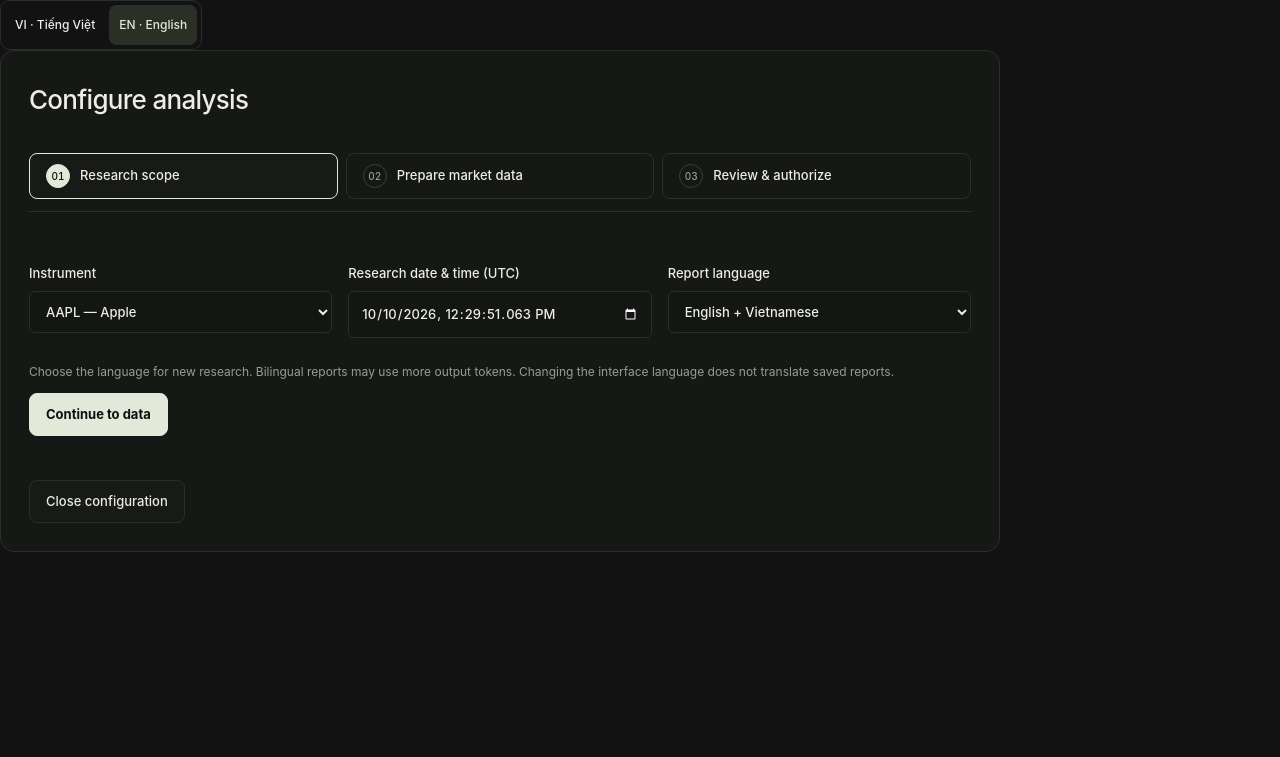
Scenario: discloses failed economic coverage in Vietnamese and never selects it or starts AI
Click the button "02 Prepare market data" at (500, 176), box [346,153,654,199]
(page scrolled)
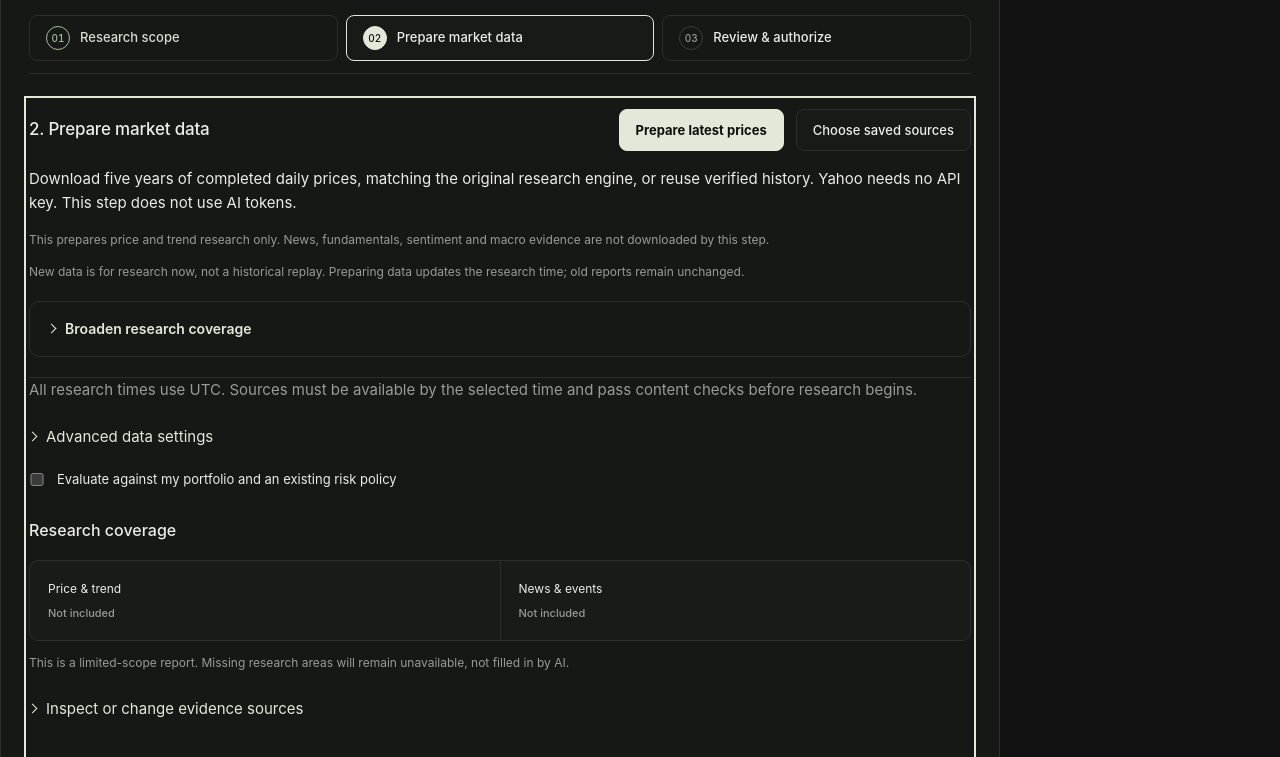
Click the heading "Broaden research coverage" at (158, 328), box [65,320,252,337]
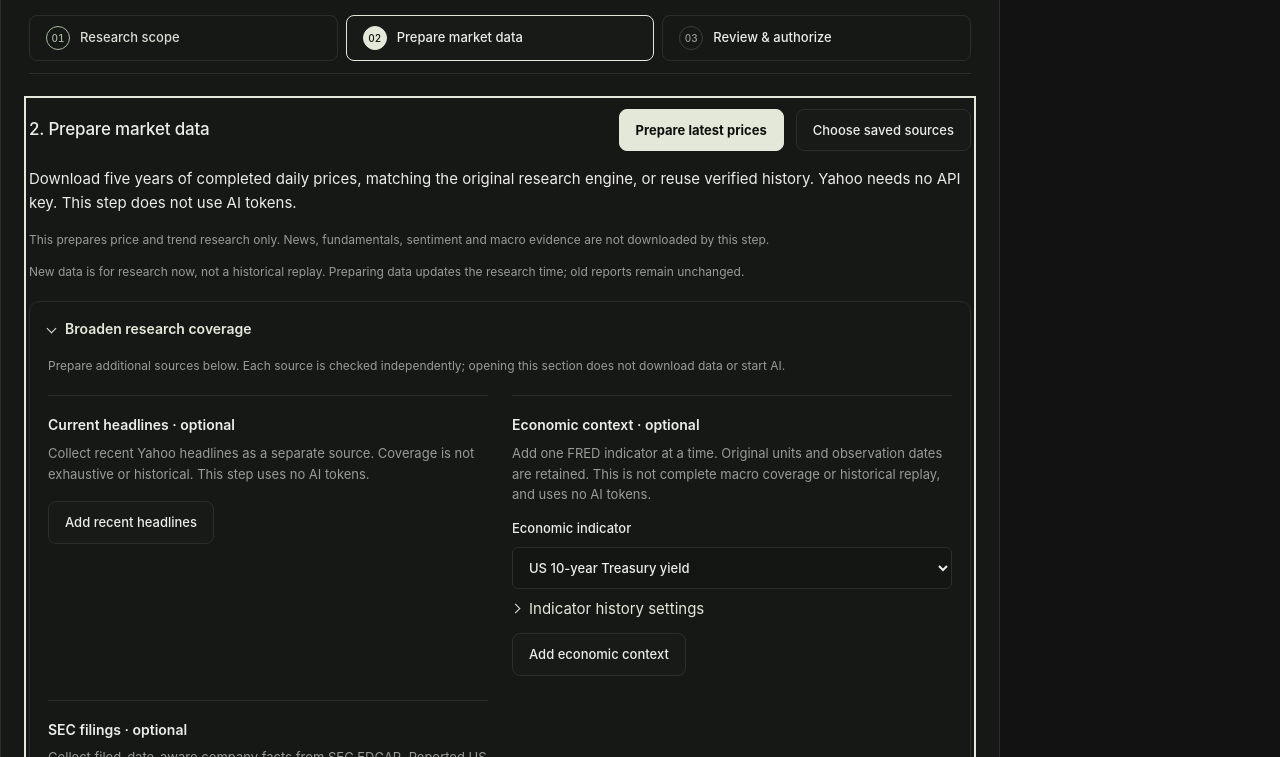
Click the button "Add economic context" at (599, 654), box [512,633,686,676]
(page scrolled)
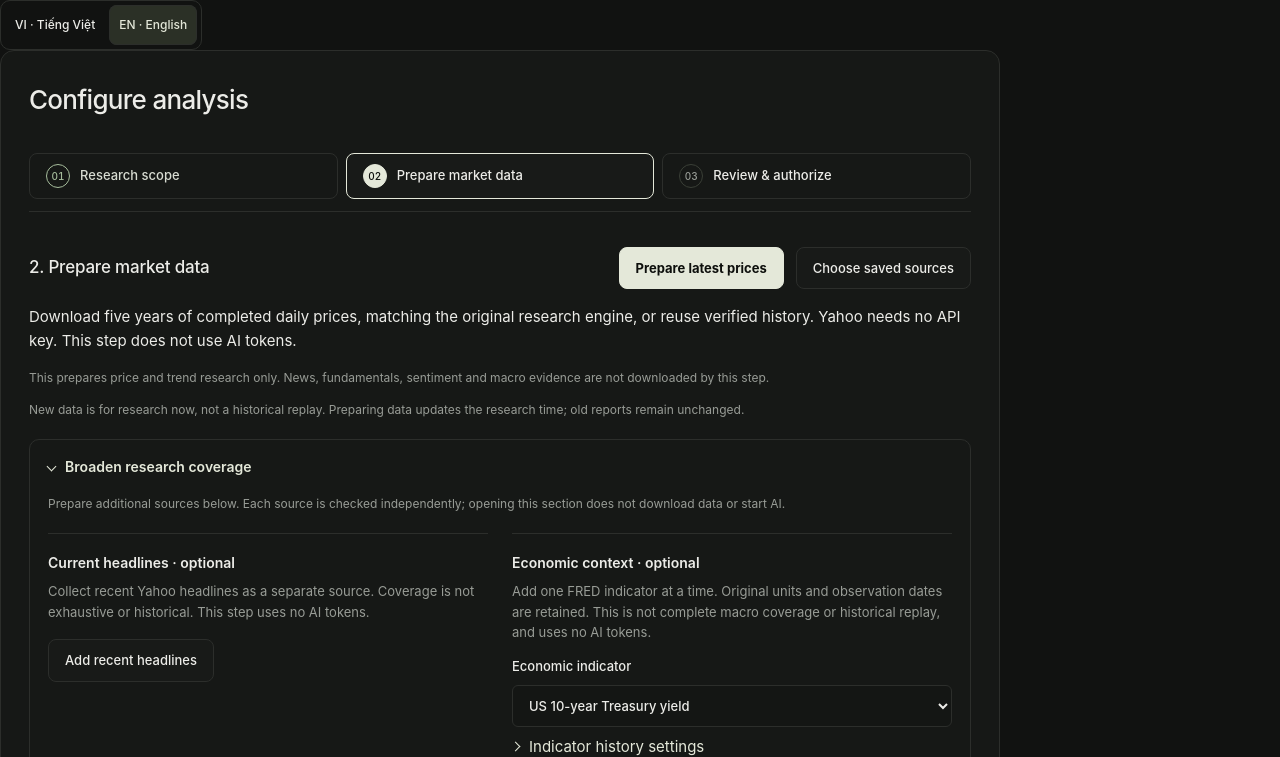
Click the button "VI · Tiếng Việt" at (55, 25), box [5,5,105,45]
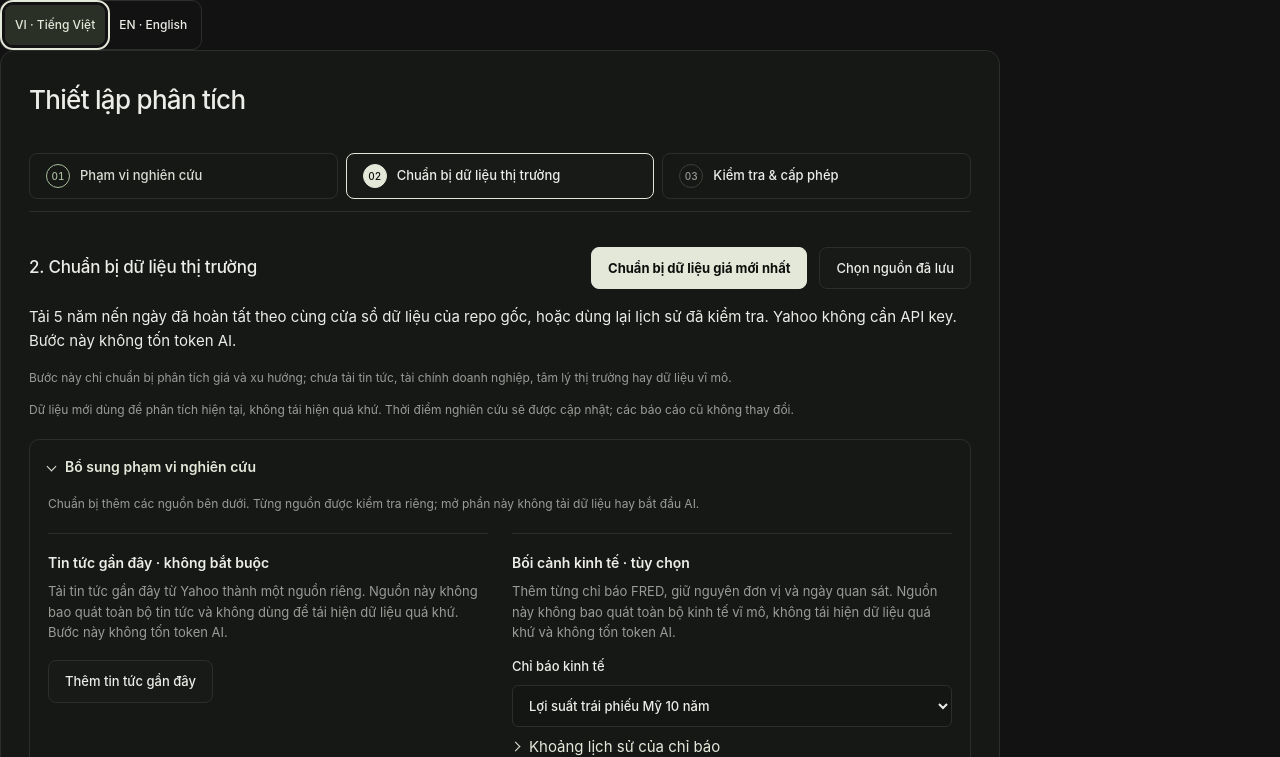
Click the button "03 Kiểm tra & cấp phép" at (817, 176), box [662,153,971,199]
(page scrolled)
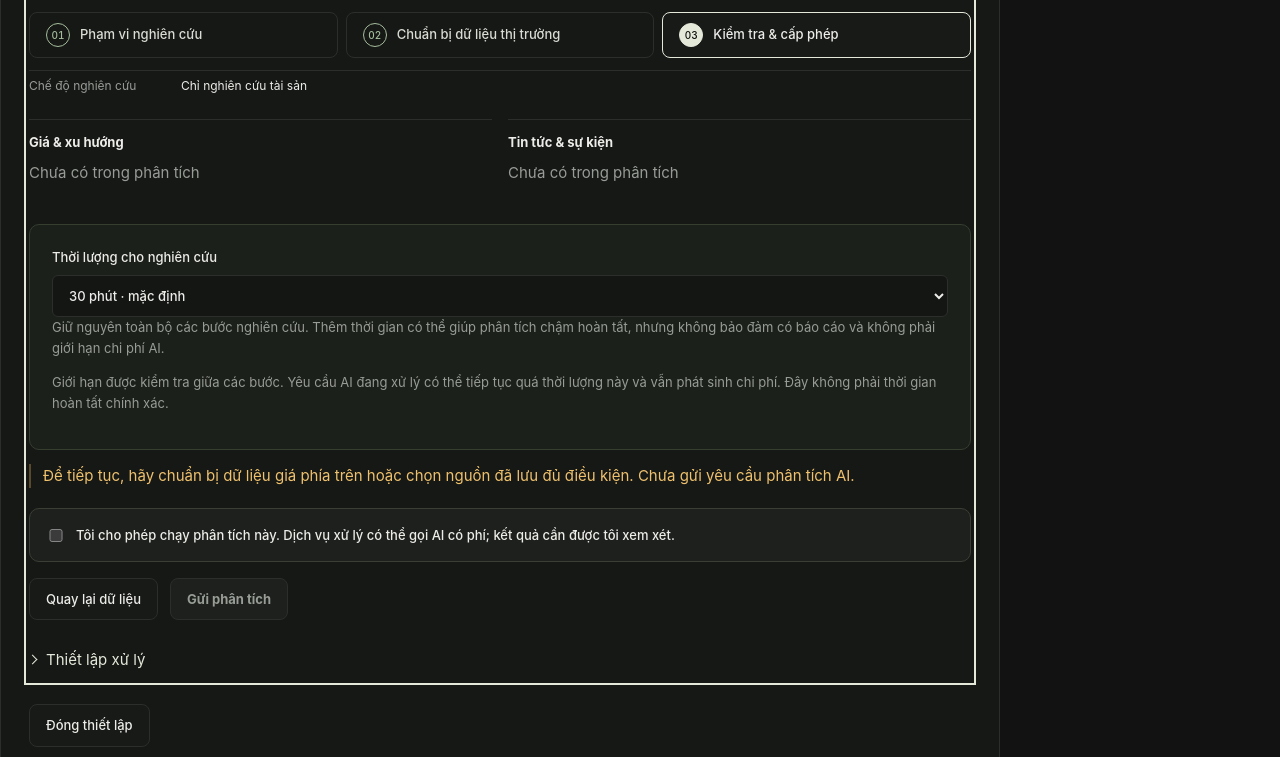
Now the button "Gửi phân tích" is disabled, box [170,578,288,620]
